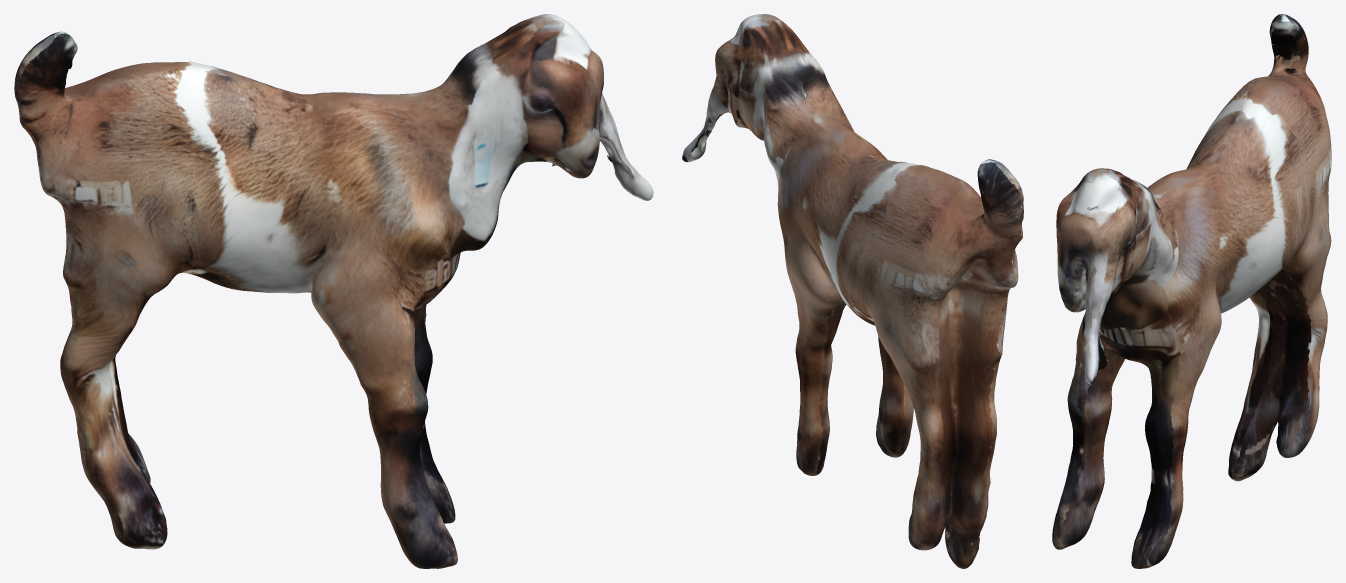
File: bebe.glb
3 views of the same model, side by side, from view 1: azimuth 30°, elevation 25°; view 2: azimuth 150°, elevation 25°; view 3: azimuth 270°, elevation 25° (orthographic). The views are drawn at different scales.
Visible parts, largest first — view 1: mesh; view 2: mesh; view 3: mesh.
Part boxes in pixels (x1,y1,x2,y2): mesh: (14,14,653,568); mesh: (682,14,1023,568); mesh: (1052,14,1331,568).
Size of the model in its own units: 1.48 by 1.39 by 0.8067.
Materials: 1 (1 with a texture image).
